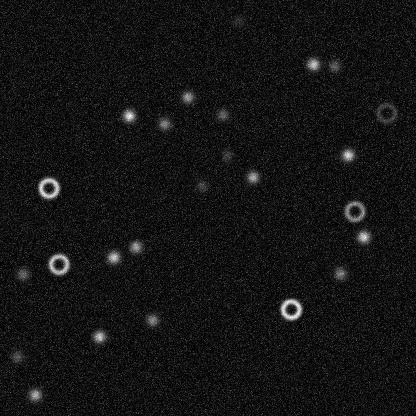Ring: (278, 297, 302, 321), (46, 252, 70, 276), (36, 175, 60, 199), (342, 199, 366, 223), (374, 100, 398, 124)
Spot: (326, 57, 342, 73), (244, 169, 260, 185), (156, 115, 172, 131), (91, 328, 107, 344), (193, 177, 209, 193), (339, 146, 355, 162), (231, 12, 247, 28), (120, 107, 136, 123), (144, 312, 160, 328), (332, 265, 348, 281), (219, 147, 235, 163), (179, 89, 195, 105), (355, 228, 371, 244), (214, 106, 230, 122), (127, 238, 143, 254), (105, 249, 121, 265), (26, 386, 42, 402), (9, 348, 25, 364), (305, 56, 321, 72), (14, 266, 30, 282)
